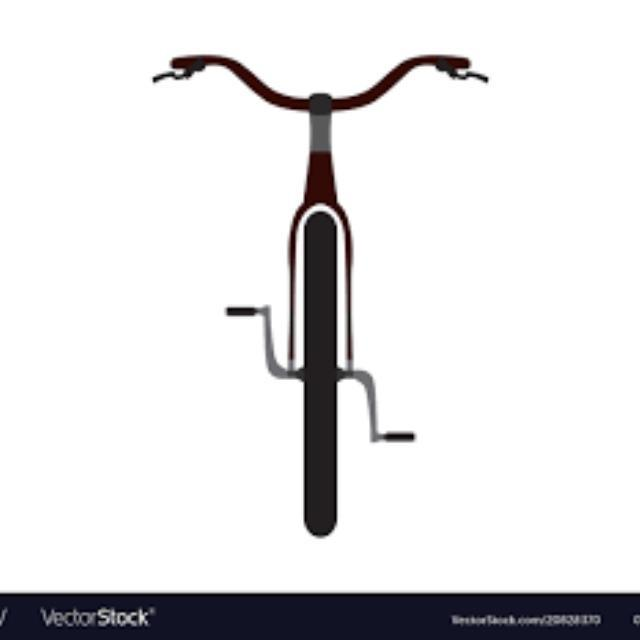obstacle: (145, 30, 540, 542)
